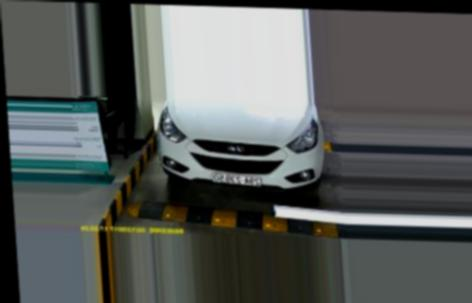License_Plate: (209, 174, 263, 186)
